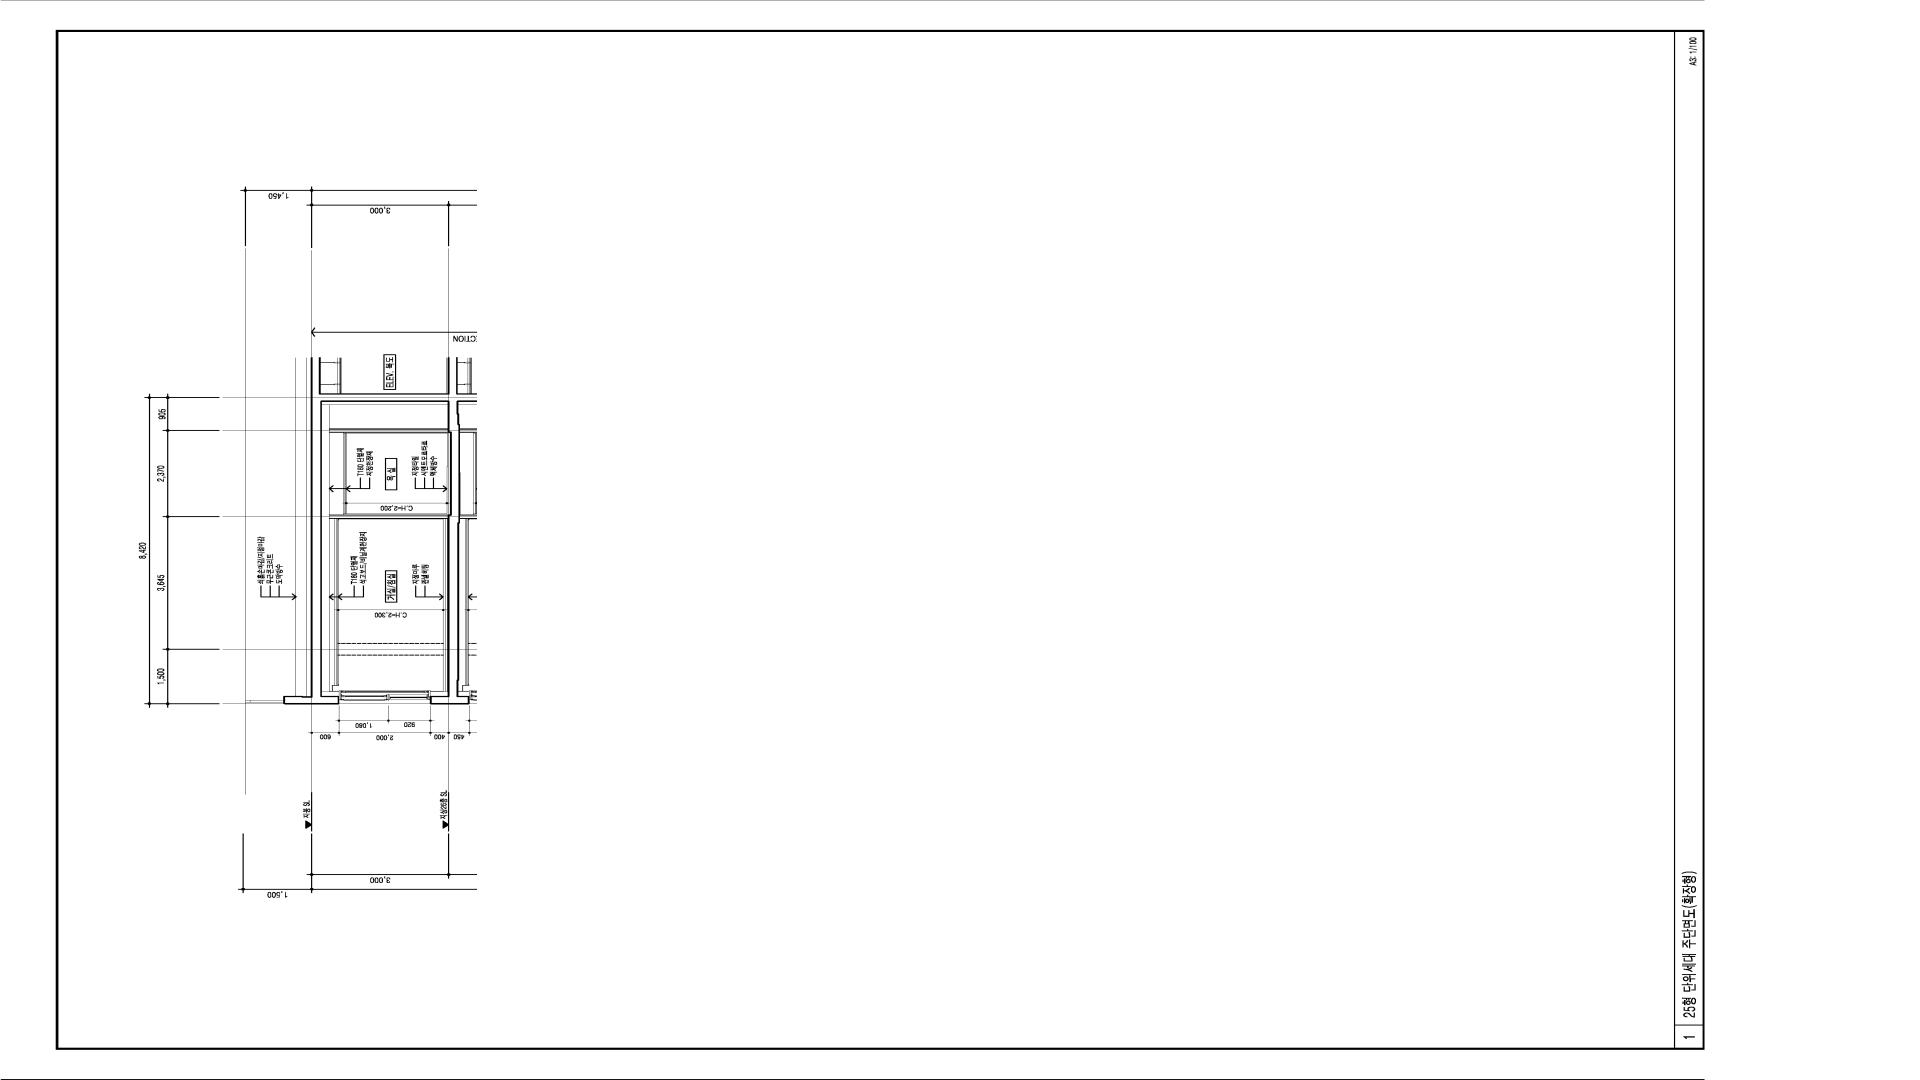background: (0, 0, 1920, 1080)
wall: (284, 357, 460, 704), (295, 357, 306, 696), (330, 514, 447, 520), (330, 429, 447, 433)
window: (340, 691, 430, 704)
